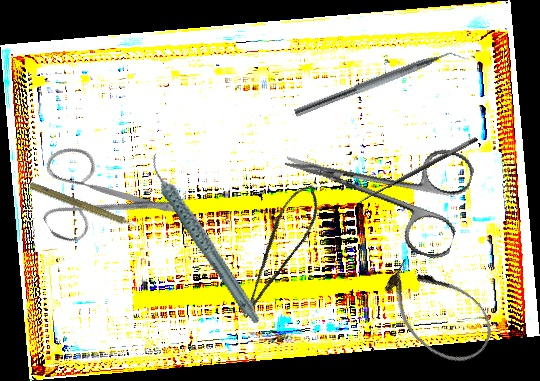Cannula: (370, 247, 505, 377)
Chopper: (293, 41, 470, 129)
Handpiece: (147, 138, 263, 339), (27, 179, 145, 237)
Hook Surgical: (353, 134, 483, 215)
Iris Scissors: (271, 105, 478, 263), (17, 109, 189, 279)
Micro Scissor: (219, 177, 333, 322)
